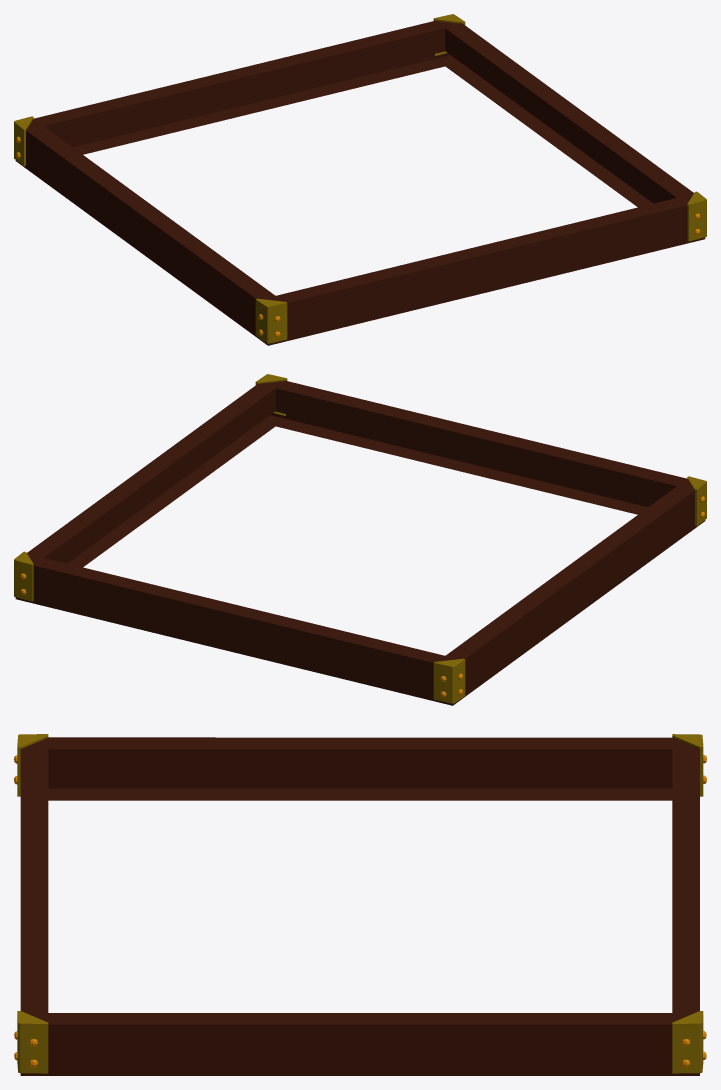
File: traywalls.FBX
3 renders of one model, top to bottom at view 1: azimuth 30°, elevation 25°; view 2: azimuth 150°, elevation 25°; view 3: azimuth 270°, elevation 25°, orthographic. The views are drawn at different scales.
Parts seen in each view (by area): view 1: Box001; view 2: Box001; view 3: Box001.
Part boxes in pixels (x1,y1,x2,y2): Box001: (14,14,706,345); Box001: (14,374,706,705); Box001: (14,734,706,1075).
Bounding box in the file's own units: 612 × 52.06 × 612.
